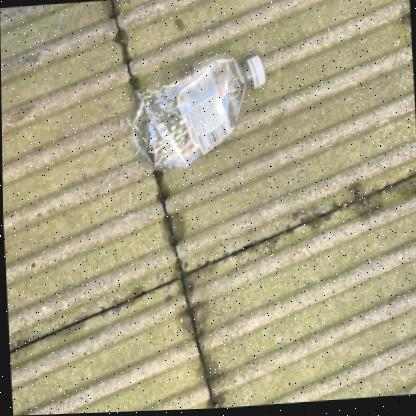Plastic: (129, 55, 265, 171)
